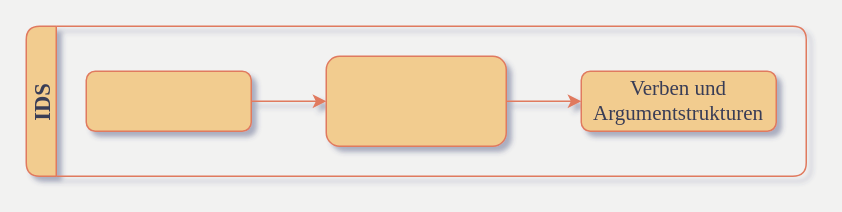
Some shapes in this 842 by 212 pixel diagram are drawn without their labels. Here are the shapes that lost their labels. From the top down, the box of each, then its label:
(85, 70, 251, 131): Abteilung Lexik
(325, 55, 506, 146): Programmbereich Lexikalische Syntagmatik
